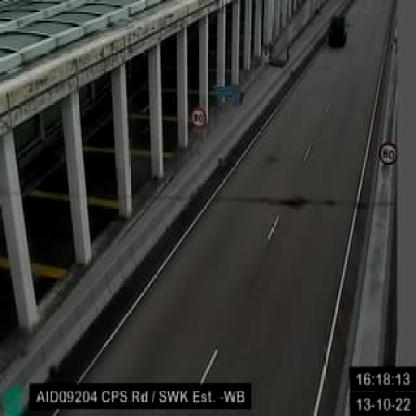Car: (327, 13, 348, 47)
